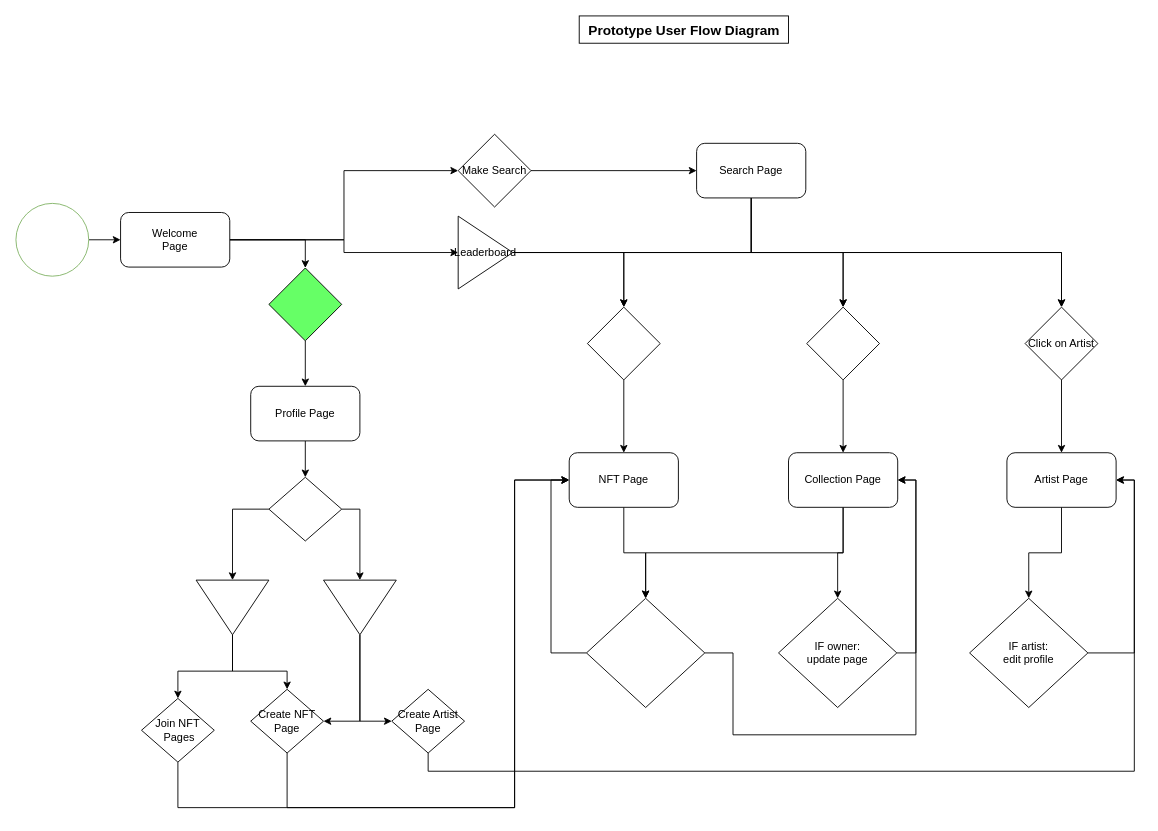
The diagram is 1158 pixels wide and 831 high, and some of its shapes have lost their labels. The shapes that lost their labels are listed below. From the top down, each one's centre as x and y in pixels, then its label:
the point at 52,239: Entry
the point at 305,304: Logon
the point at 623,343: Click on NFT
the point at 843,343: Click on Collection
the point at 305,508: Claim Art
the point at 232,607: User Owns NFTs
the point at 359,607: User Created NFTs
the point at 645,652: IF user: add commenttary
